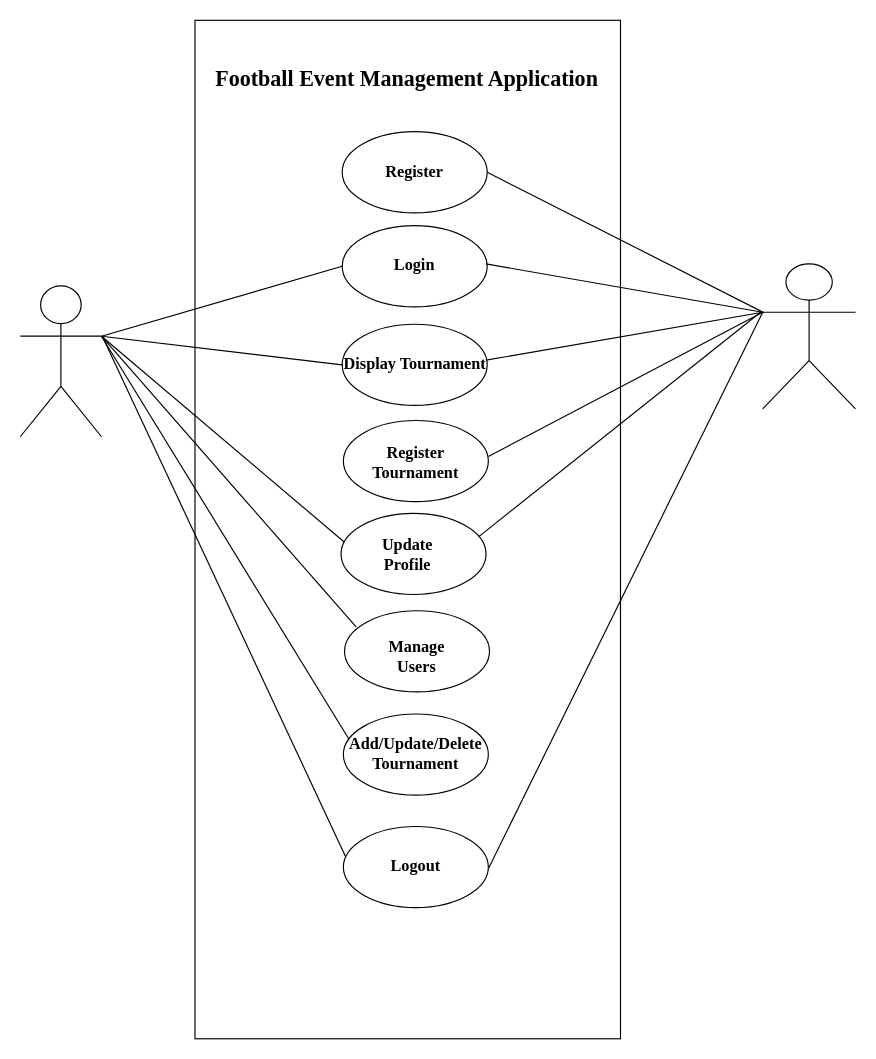
Image size: 876x1059. Some labels were removed from this diagram. Here are the shapes that lost their labels. From the top down, the centre of each, then its label:
At (x=808, y=336): "User".
At (x=60, y=361): "Admin".
